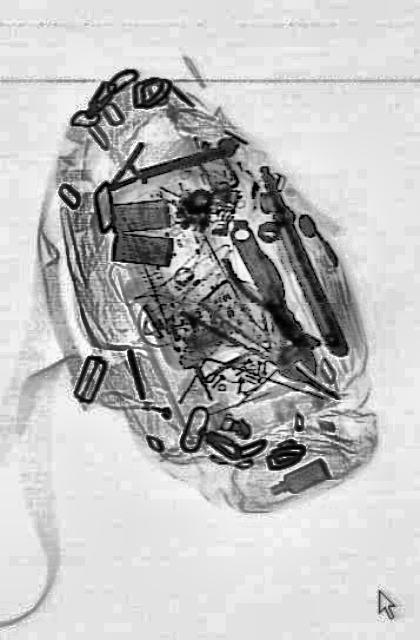Pliers: (218, 222, 332, 392), (180, 290, 344, 406)
Wrench: (216, 204, 328, 393)
